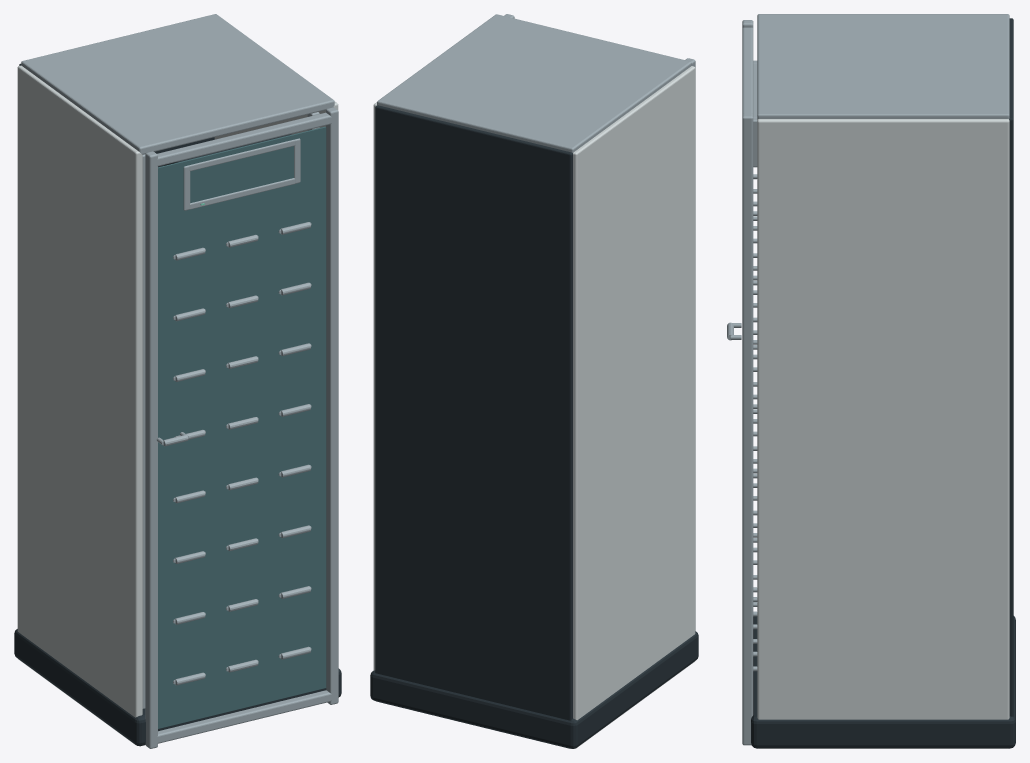
The model's file is SF_SC_RecorderRack.fbx.
3 views of the same model, side by side, from view 1: azimuth 30°, elevation 25°; view 2: azimuth 150°, elevation 25°; view 3: azimuth 270°, elevation 25° (orthographic). The views are drawn at different scales.
Parts seen in each view (by area): view 1: SF_SC_RecorderRack; view 2: SF_SC_RecorderRack; view 3: SF_SC_RecorderRack.
Boxes of the visible parts, bbox=[...] form: SF_SC_RecorderRack: bbox=[14, 14, 341, 748]; SF_SC_RecorderRack: bbox=[370, 14, 698, 748]; SF_SC_RecorderRack: bbox=[727, 14, 1015, 748].
Bounding box in the file's own units: 80 × 221 × 91.6.
